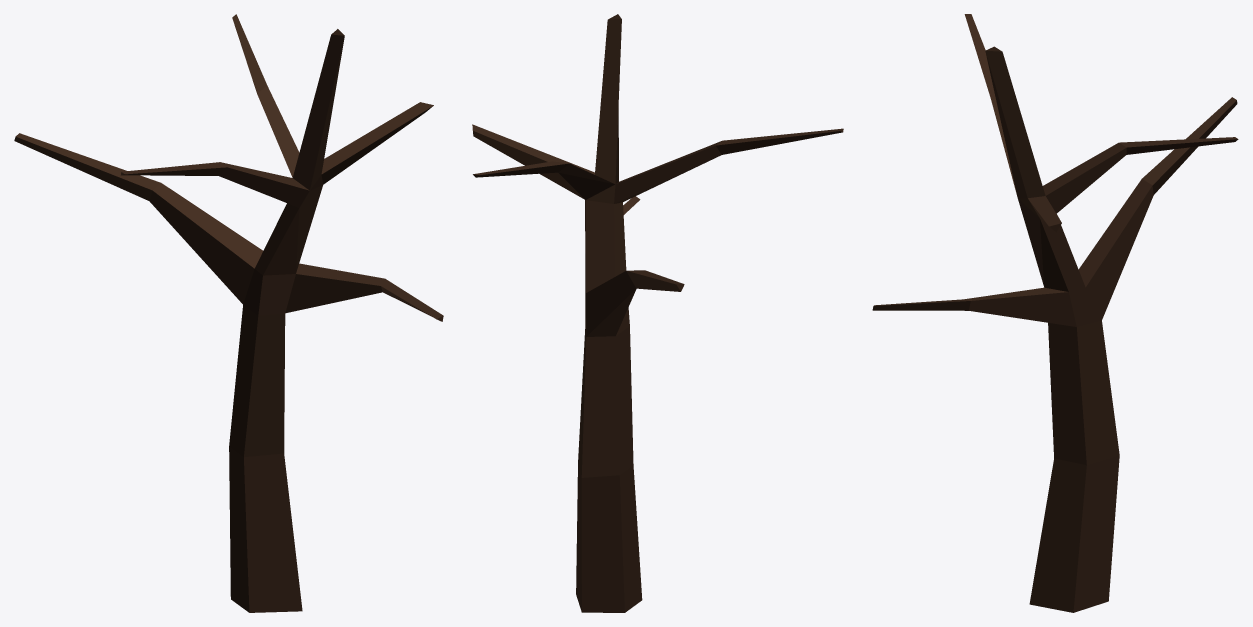
The model's file is TreeAutumn7_Alt4.fbx.
The picture shows the model from 3 angles, left to right: view 1: azimuth 30°, elevation 25°; view 2: azimuth 150°, elevation 25°; view 3: azimuth 270°, elevation 25°; orthographic projection. The views are drawn at different scales.
Visible parts, largest first — view 1: TreeAutumn7_Alt4; view 2: TreeAutumn7_Alt4; view 3: TreeAutumn7_Alt4.
Boxes of the visible parts, bbox=[...] form: TreeAutumn7_Alt4: bbox=[14, 14, 443, 612]; TreeAutumn7_Alt4: bbox=[472, 14, 843, 612]; TreeAutumn7_Alt4: bbox=[872, 14, 1238, 612].
Size of the model in its own units: 1.29 by 2.04 by 1.2.
